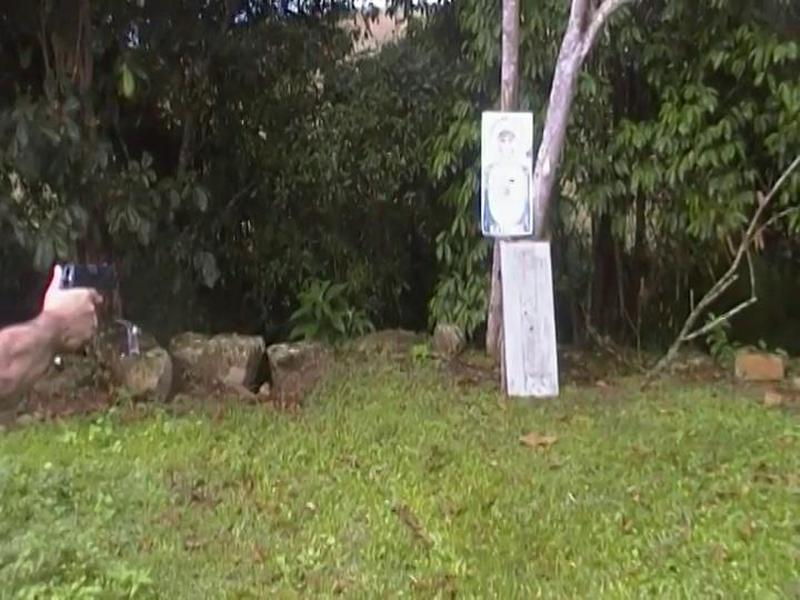Pistola: (32, 242, 138, 324)
